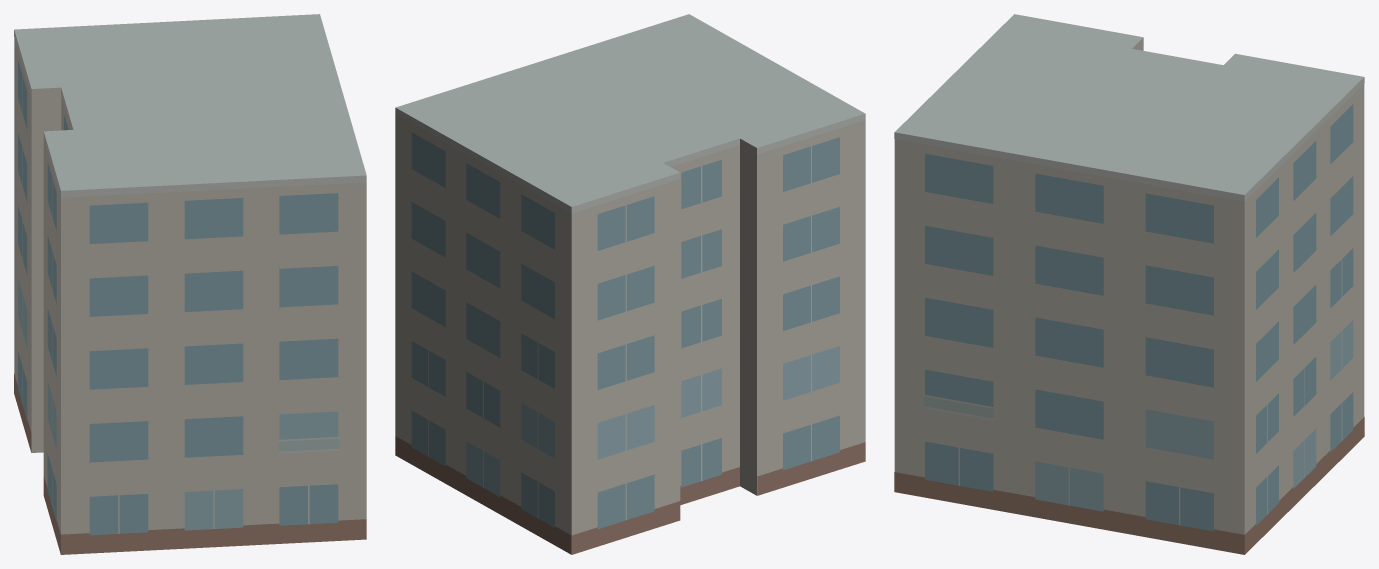
Rendered from survey-upis-32745633.glb.
3 renders of one model, left to right at view 1: azimuth 30°, elevation 25°; view 2: azimuth 150°, elevation 25°; view 3: azimuth 270°, elevation 25°, orthographic. The views are drawn at different scales.
Parts seen in each view (by area): view 1: survey-upis-32745633.tmp; view 2: survey-upis-32745633.tmp; view 3: survey-upis-32745633.tmp.
Part boxes in pixels (bbox=[...]): survey-upis-32745633.tmp: bbox=[14, 14, 366, 554]; survey-upis-32745633.tmp: bbox=[395, 14, 865, 554]; survey-upis-32745633.tmp: bbox=[894, 14, 1364, 554].
Size of the model in its own units: 14.26 by 13.2 by 15.64.
